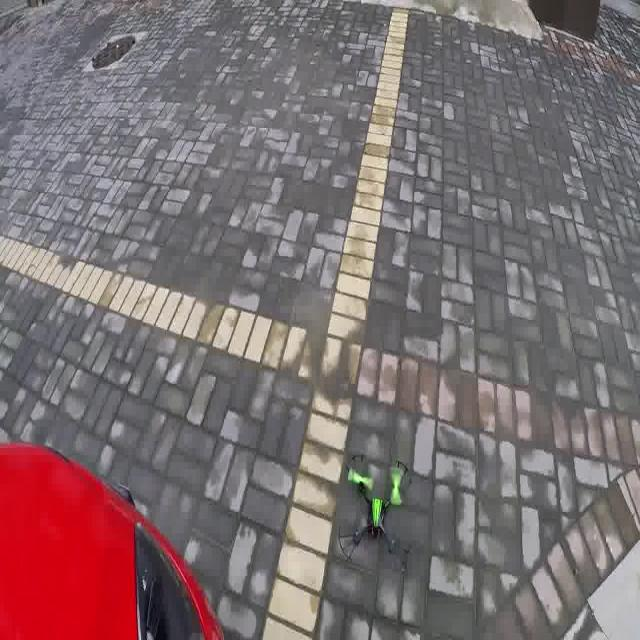drone: (329, 442, 420, 579)
